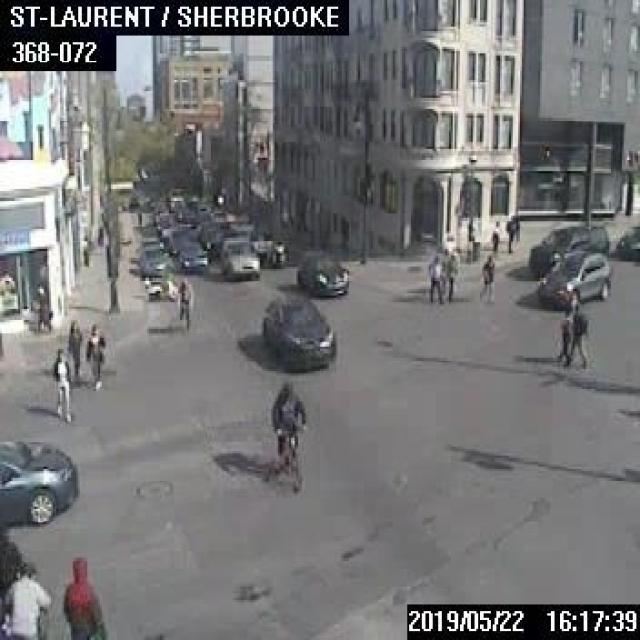cyclist: (269, 380, 304, 492)
pedestrian: (60, 556, 105, 638), (4, 562, 51, 638), (84, 321, 105, 389), (51, 348, 70, 422), (568, 302, 587, 364), (66, 318, 81, 384), (174, 278, 191, 329), (427, 251, 442, 303), (34, 284, 50, 332), (479, 253, 494, 302), (556, 308, 568, 362), (444, 250, 456, 300), (504, 211, 518, 251), (490, 218, 499, 252)
vehicle: (0, 433, 78, 522), (260, 296, 334, 369), (537, 251, 610, 311), (527, 224, 606, 273), (296, 248, 348, 295), (218, 236, 258, 278), (174, 239, 208, 273), (142, 268, 176, 300), (136, 243, 167, 274), (162, 227, 193, 253), (615, 226, 638, 261)
